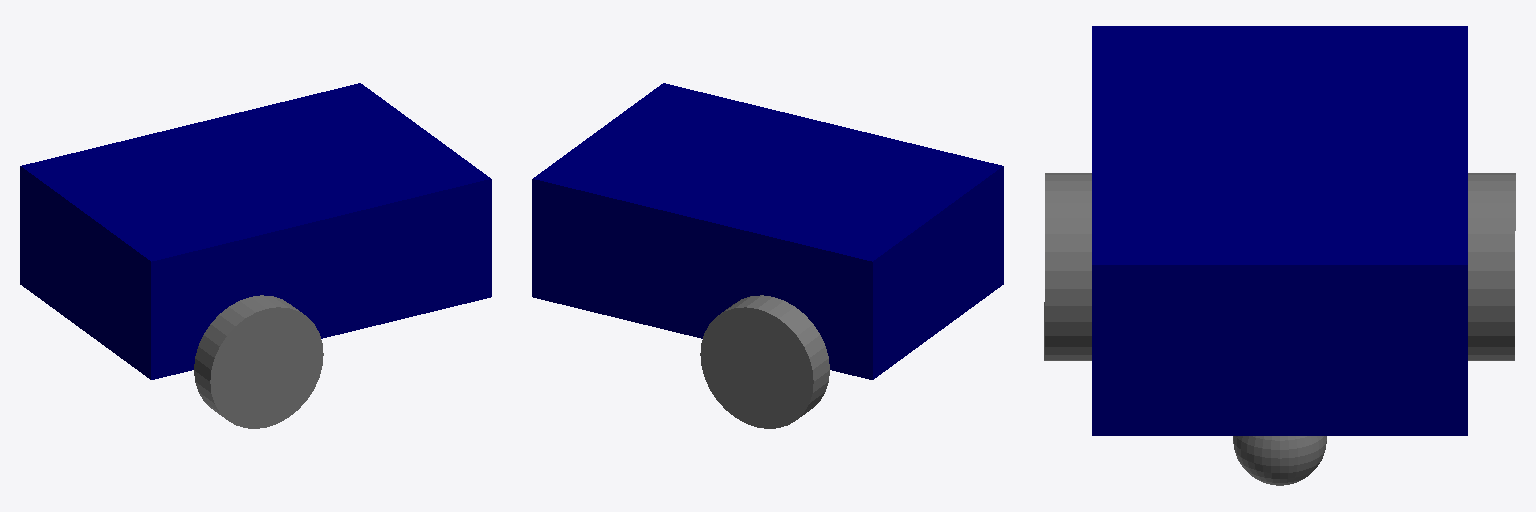
The robot description file, URDF, robot "mobilni_robot":
<?xml version="1.0"?>
<robot name="mobilni_robot">

    <material name="blue">
        <color rgba="0 0 0.5 1"/>
    </material>

    <material name="grey">
        <color rgba="0.5 0.5 0.5 1"/>
    </material>

    <link name="base_link">
        <visual>
            <geometry>
                <box size="0.6 0.4 0.2"/> <!-- sve je u metrima -->
            </geometry>
            <origin xyz="0 0 0.1" rpy="0 0 0"/>  <!-- polozaj pripadajuceg koordinatnog sustava(samog tijela) u prostoru rpy= role pitch yaw-->
            <!-- rotacije su u radijanima 90=1.57 180=3.14--> 
            <material name="blue"/>
        </visual>
    </link>
    
    <link name="desni_kotac_link">
        <visual>
            <geometry>
                <cylinder radius="0.1" length="0.05" />
            </geometry>
            <origin xyz="0.025 0 0" rpy="1.57 0 0" />
            <material name="grey" />
        </visual>    
    </link>
    
    <link name="lijevi_kotac_link">
        <visual>
            <geometry>
                <cylinder radius="0.1" length="0.05" />
            </geometry>
            <origin xyz="0.025 0 0" rpy="1.57 0 0" />
            <material name="grey" />
        </visual>    
    </link>

    <link name="pomocni_kotac_link">
        <visual>
            <geometry>
                <sphere radius="0.05"/>
            </geometry>
            <origin xyz="0 0 0" rpy="0 0 0" />
            <material name="grey" />
        </visual>    
    </link>

    <link name="base_footprint"/>

    


    <joint name="base_joint" type="fixed">
        <parent link="base_footprint"/>
        <child link="base_link" />
        <origin xyz="0 0 0.1" rpy="0 0 0" />
    </joint>

    <joint name="base_right_wheel_joint" type="continuous">
        <parent link="base_link"/>
        <child link="desni_kotac_link" />
        <origin xyz="-0.15 -0.225 0" rpy="0 0 0" />
        <axis xyz="0 1 0" />   
    </joint>

    <joint name="base_left_wheel_joint" type="continuous">
        <parent link="base_link"/>
        <child link="lijevi_kotac_link" />
        <origin xyz="-0.15 0.225 0" rpy="0 0 0" />
        <axis xyz="0 1 0" />   
    </joint>

    <joint name="base_pomocni_wheel_joint" type="fixed">
        <parent link="base_link"/>
        <child link="pomocni_kotac_link" />
        <origin xyz="0.2 0 -0.05" rpy="0 0 0" />
    </joint>

    


    

</robot>
<!-- poziv urdf modela "ros2 launch urdf_tutorial display.launch.py  model:=[local-path]/robot.urdf"-->

--- What the picture shows (computed from the rendered views, not written in the file) ---
The picture shows the robot from 3 angles, left to right: view 1: azimuth 30°, elevation 25°; view 2: azimuth 150°, elevation 25°; view 3: azimuth 270°, elevation 25°; orthographic projection.
Model mobilni_robot with 5 links and 4 joints (2 continuous, 2 fixed), rooted at base_footprint, posed every joint at zero.
Visible links, largest first — view 1: base_link, desni_kotac_link; view 2: base_link, lijevi_kotac_link; view 3: base_link, desni_kotac_link, lijevi_kotac_link, pomocni_kotac_link.
Link boxes in pixels (x1,y1,x2,y2): base_link: (20,83,491,379); desni_kotac_link: (194,295,323,428); base_link: (532,83,1003,379); lijevi_kotac_link: (700,295,829,428); base_link: (1092,26,1467,435); desni_kotac_link: (1044,173,1091,360); lijevi_kotac_link: (1468,173,1515,360); pomocni_kotac_link: (1233,436,1326,485).
Size in the robot's own frame: 0.6 by 0.5002 by 0.3 metres.
Geometry: primitives only (box / cylinder / sphere), no mesh files.
